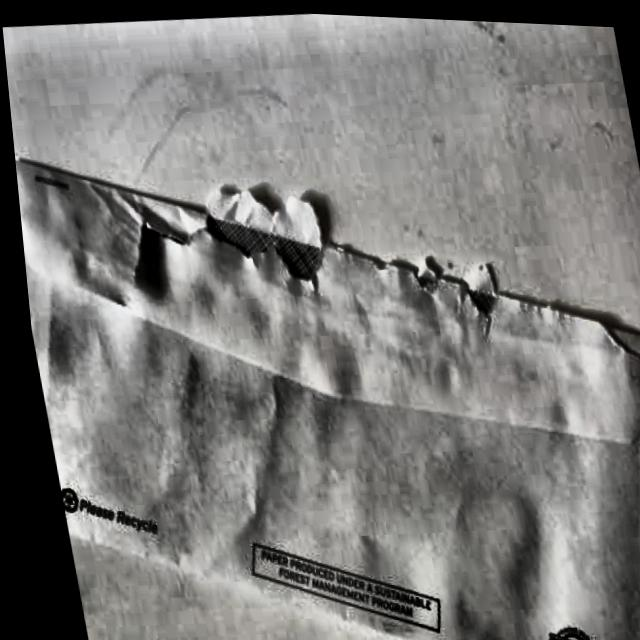Paper: (7, 93, 640, 640)
